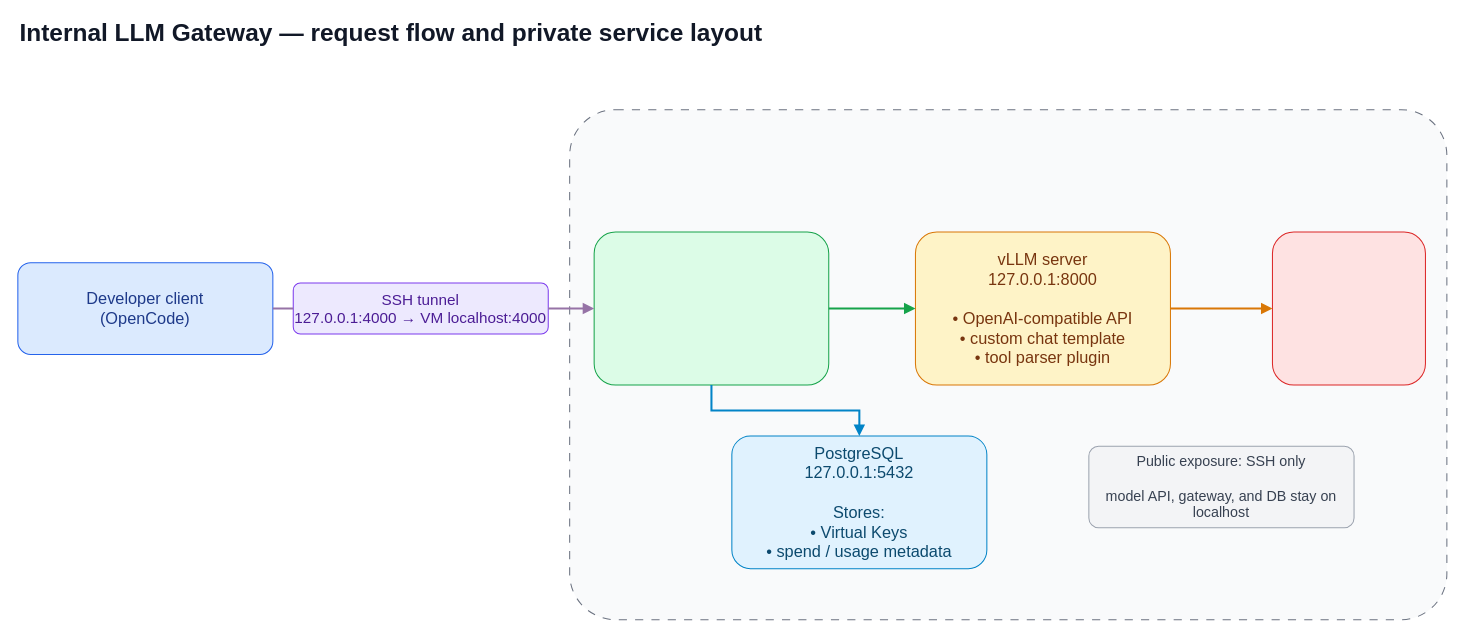
The diagram is 1465 pixels wide and 638 high, and some of its shapes have lost their labels. The shapes that lost their labels are listed below. From the top down, each one's box as (x1, y1, x2, y2) in pixels, then its label:
(593, 231, 829, 385): LiteLLM Proxy 127.0.0.1:4000 • Virtual Key auth • routing • usage tracking
(1271, 231, 1425, 385): Qwen2.5-Coder-32B-Instruct-AWQ on NVIDIA L40S
(569, 109, 1447, 620): STACKIT Server with GPU (machine type n2.14d.g1)
